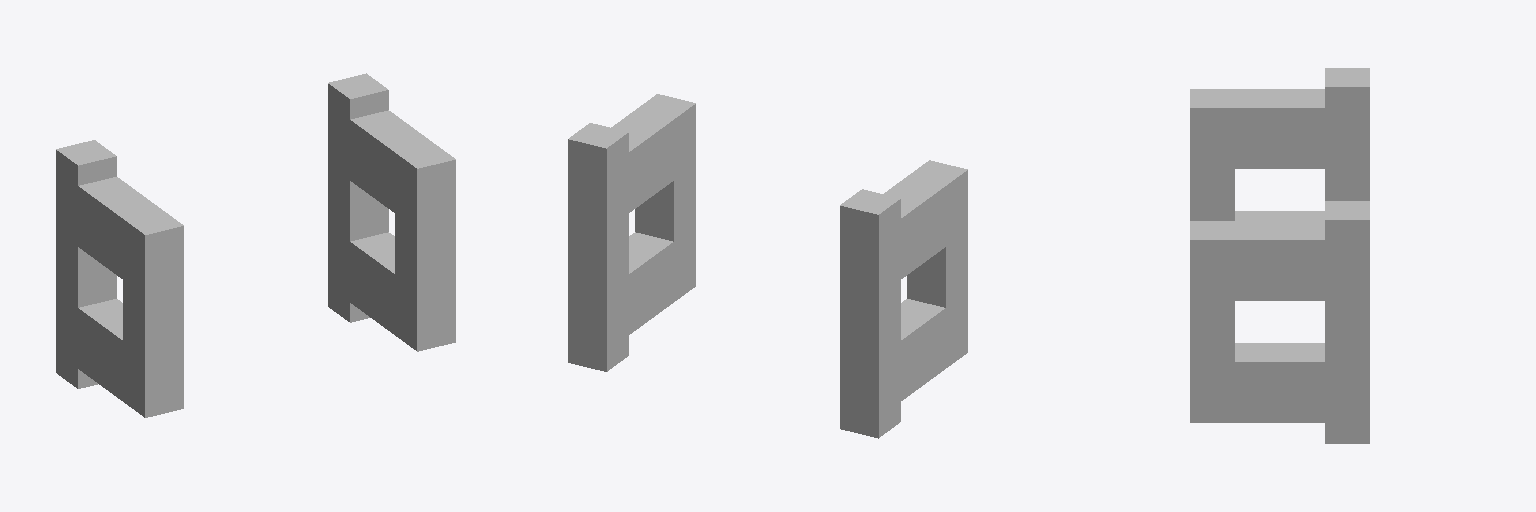
File: fence_gate_open.obj
3 renders of one model, left to right at view 1: azimuth 30°, elevation 25°; view 2: azimuth 150°, elevation 25°; view 3: azimuth 270°, elevation 25°, orthographic.
Visible parts, largest first — view 1: Inner_vertical_post_of_left-hand_gate_door, Inner_vertical_post_of_right-hand_gate_door, Left-hand_post, Right-hand_post, Upper_horizontal_bar_of_left-hand_gate_door.001, Upper_horizontal_bar_of_left-hand_gate_door, Lower_horizontal_bar_of_left-hand_gate_door.001, Lower_horizontal_bar_of_left-hand_gate_door; view 2: Right-hand_post, Left-hand_post, Inner_vertical_post_of_left-hand_gate_door, Inner_vertical_post_of_right-hand_gate_door, Upper_horizontal_bar_of_left-hand_gate_door.001, Upper_horizontal_bar_of_left-hand_gate_door, Lower_horizontal_bar_of_left-hand_gate_door.001, Lower_horizontal_bar_of_left-hand_gate_door; view 3: Right-hand_post, Inner_vertical_post_of_right-hand_gate_door, Lower_horizontal_bar_of_left-hand_gate_door.001, Upper_horizontal_bar_of_left-hand_gate_door, Upper_horizontal_bar_of_left-hand_gate_door.001, Left-hand_post, Inner_vertical_post_of_left-hand_gate_door, Lower_horizontal_bar_of_left-hand_gate_door.
Part boxes in pixels (x1,y1,x2,y2): Inner_vertical_post_of_left-hand_gate_door: (123, 209, 183, 417); Inner_vertical_post_of_right-hand_gate_door: (395, 143, 455, 351); Left-hand_post: (56, 140, 116, 388); Right-hand_post: (328, 73, 388, 322); Upper_horizontal_bar_of_left-hand_gate_door.001: (350, 110, 432, 212); Upper_horizontal_bar_of_left-hand_gate_door: (78, 177, 160, 278); Lower_horizontal_bar_of_left-hand_gate_door.001: (350, 232, 394, 334); Lower_horizontal_bar_of_left-hand_gate_door: (78, 299, 122, 400); Right-hand_post: (568, 123, 628, 371); Left-hand_post: (840, 189, 900, 438); Inner_vertical_post_of_left-hand_gate_door: (907, 160, 967, 367); Inner_vertical_post_of_right-hand_gate_door: (635, 94, 695, 301); Upper_horizontal_bar_of_left-hand_gate_door.001: (611, 110, 673, 212); Upper_horizontal_bar_of_left-hand_gate_door: (884, 177, 945, 278); Lower_horizontal_bar_of_left-hand_gate_door.001: (629, 232, 673, 334); Lower_horizontal_bar_of_left-hand_gate_door: (901, 299, 945, 400); Right-hand_post: (1325, 201, 1369, 443); Inner_vertical_post_of_right-hand_gate_door: (1190, 221, 1234, 422); Lower_horizontal_bar_of_left-hand_gate_door.001: (1235, 343, 1324, 422); Upper_horizontal_bar_of_left-hand_gate_door: (1235, 89, 1324, 168); Upper_horizontal_bar_of_left-hand_gate_door.001: (1235, 221, 1324, 300); Left-hand_post: (1325, 68, 1369, 200); Inner_vertical_post_of_left-hand_gate_door: (1190, 89, 1234, 220); Lower_horizontal_bar_of_left-hand_gate_door: (1235, 211, 1324, 220).
Bounding box in the file's own units: 1 × 0.6875 × 0.5.